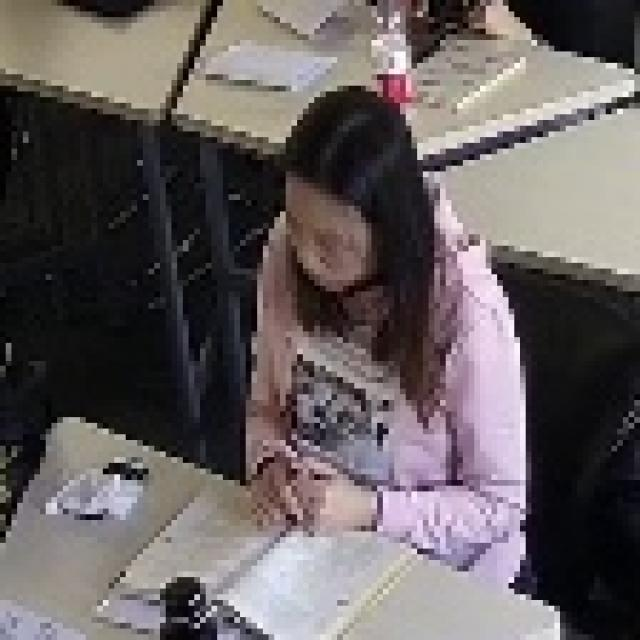write: (231, 93, 520, 622)
